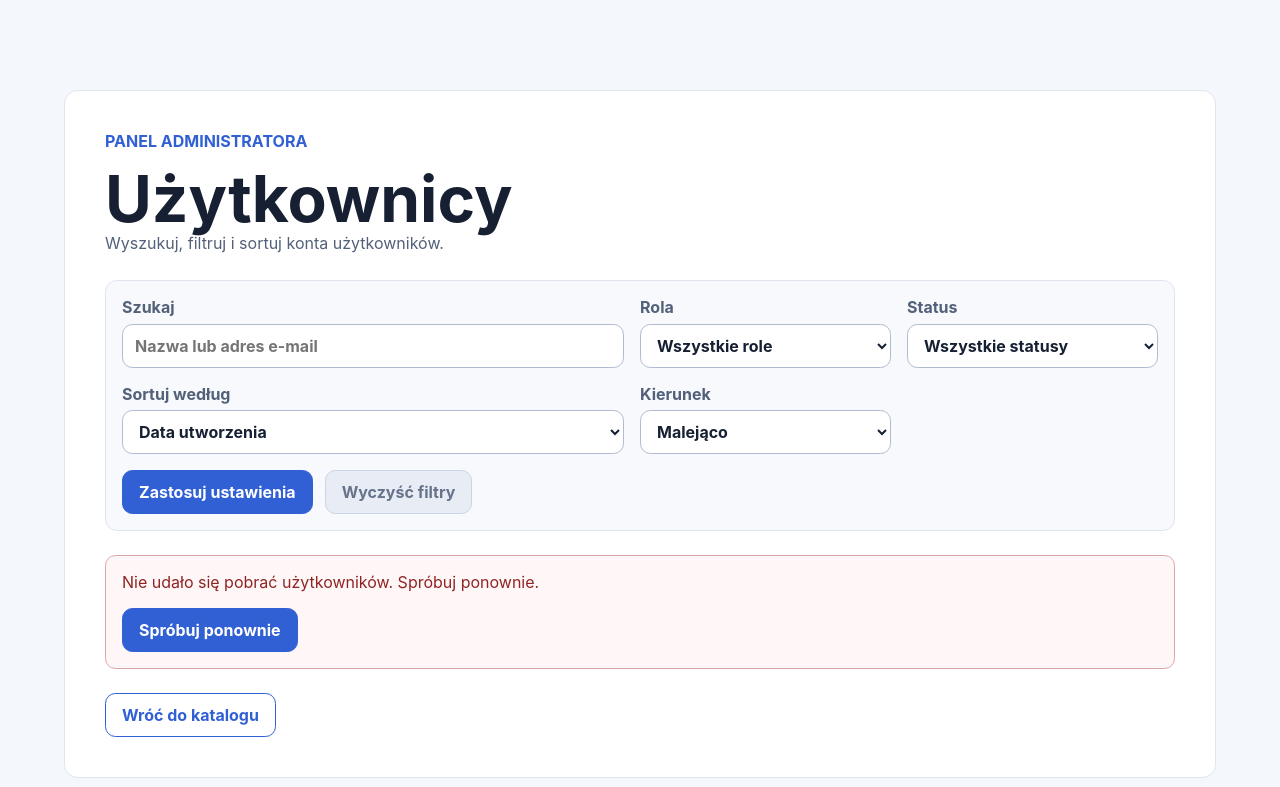
Test: AdminUsersPage › retries a temporary failure without clearing the session
Expected: the message shows "Nie udało się pobrać użytkowników. Spróbuj ponownie.", [122,572,539,592]
Click the button "Spróbuj ponownie". click: click(210, 630)
box: [122,608,298,652]
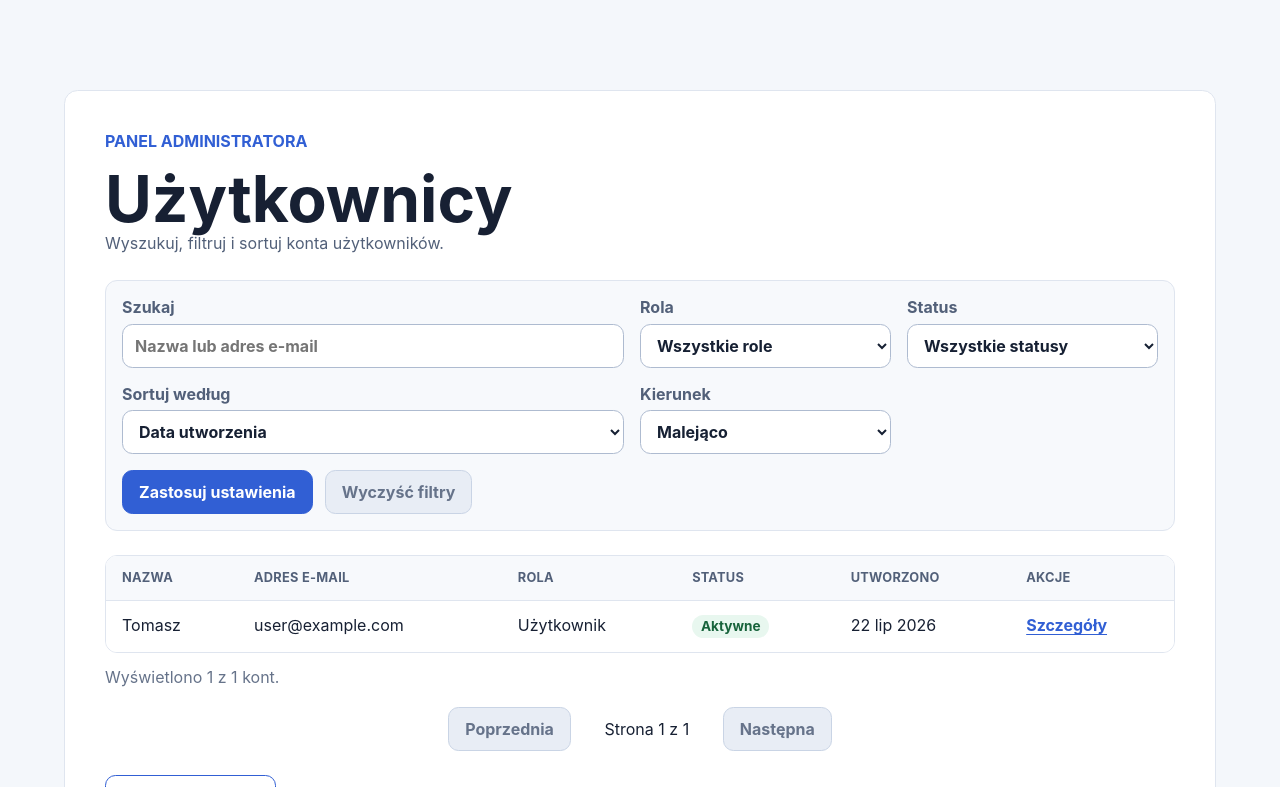
Now the text "user@example.com" is shown, box [238,601,502,652]
